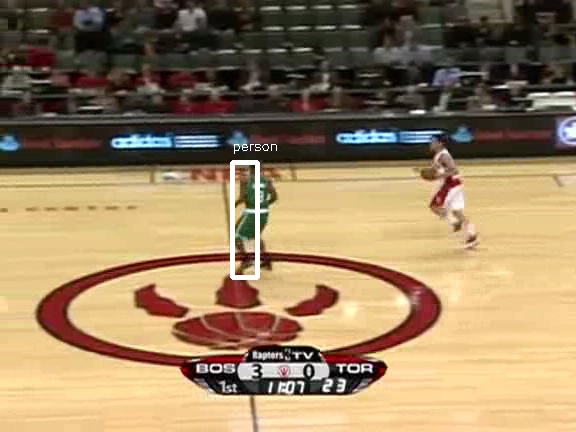person: (242, 169, 276, 250), (241, 169, 275, 250), (243, 169, 277, 250), (242, 168, 276, 249), (242, 170, 276, 251)
target_negative: (213, 44, 361, 402), (345, 248, 516, 338), (348, 50, 410, 290), (450, 226, 493, 376), (546, 341, 563, 374)
